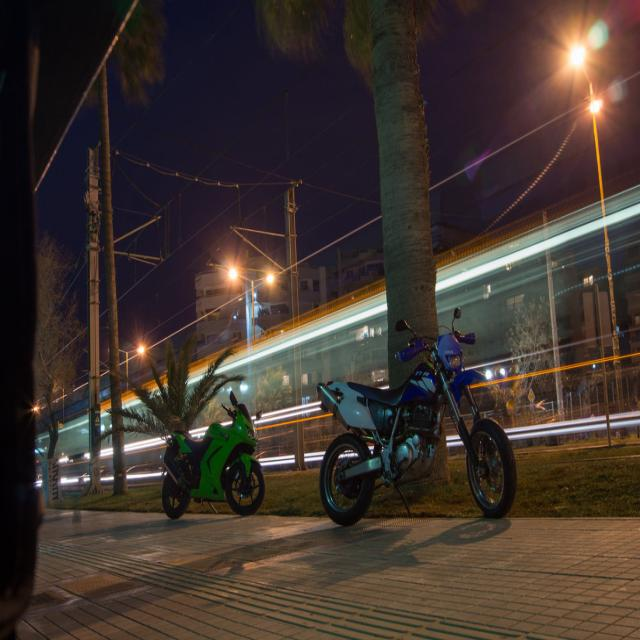Motorbike: (308, 294, 522, 533), (138, 374, 270, 517)
